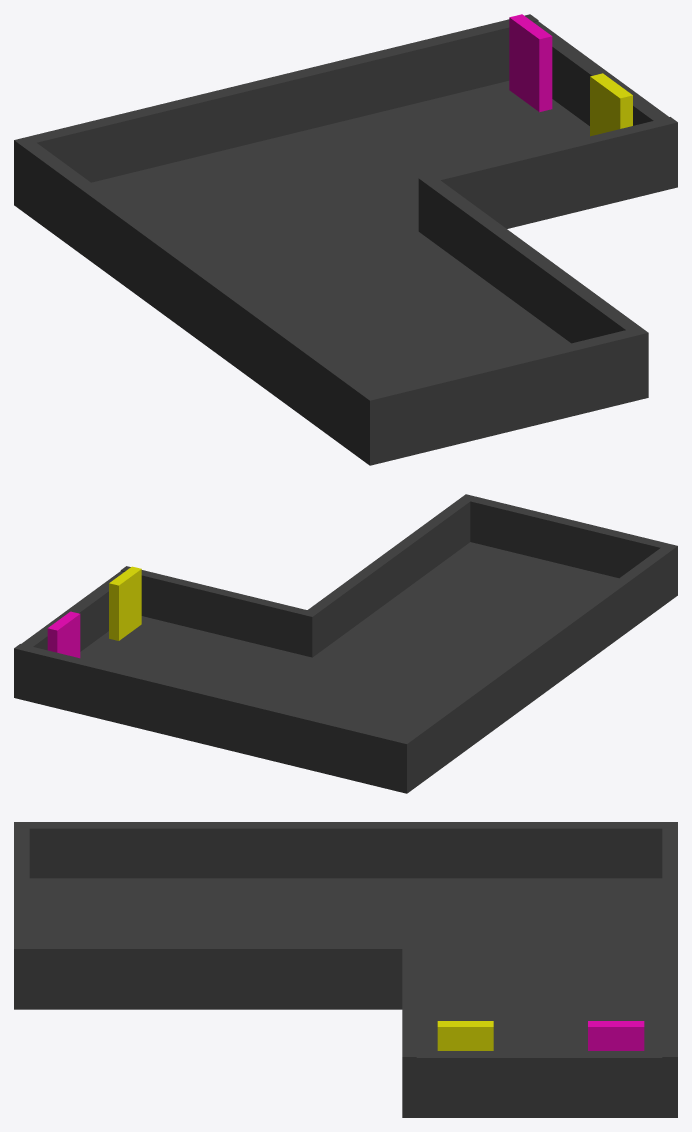
The model's file is arena.fbx.
The picture shows the model from 3 angles, top to bottom: view 1: azimuth 30°, elevation 25°; view 2: azimuth 150°, elevation 25°; view 3: azimuth 270°, elevation 25°; orthographic projection. The views are drawn at different scales.
Parts seen in each view (by area): view 1: Ground, X, O; view 2: Ground, O, X; view 3: Ground, X, O.
Part boxes in pixels (bbox=[...]): Ground: bbox=[14, 14, 677, 465]; X: bbox=[509, 14, 552, 112]; O: bbox=[590, 73, 632, 136]; Ground: bbox=[14, 494, 677, 793]; O: bbox=[109, 566, 141, 640]; X: bbox=[47, 611, 80, 658]; Ground: bbox=[14, 822, 677, 1117]; X: bbox=[588, 1021, 644, 1050]; O: bbox=[437, 1021, 493, 1050].
Bounding box in the file's own units: 43.31 × 6.79 × 51.73.
